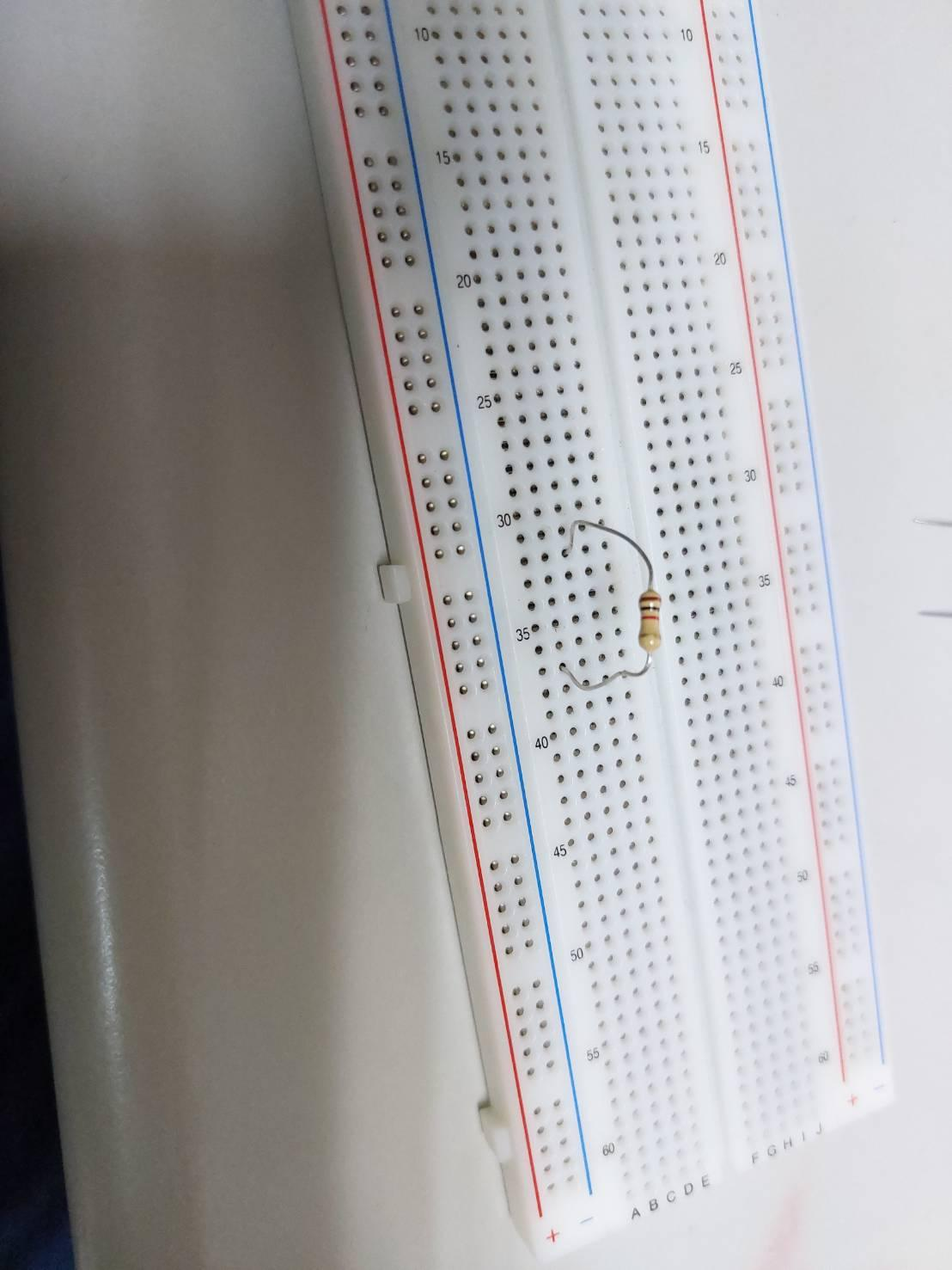resistor: (638, 590, 662, 652)
